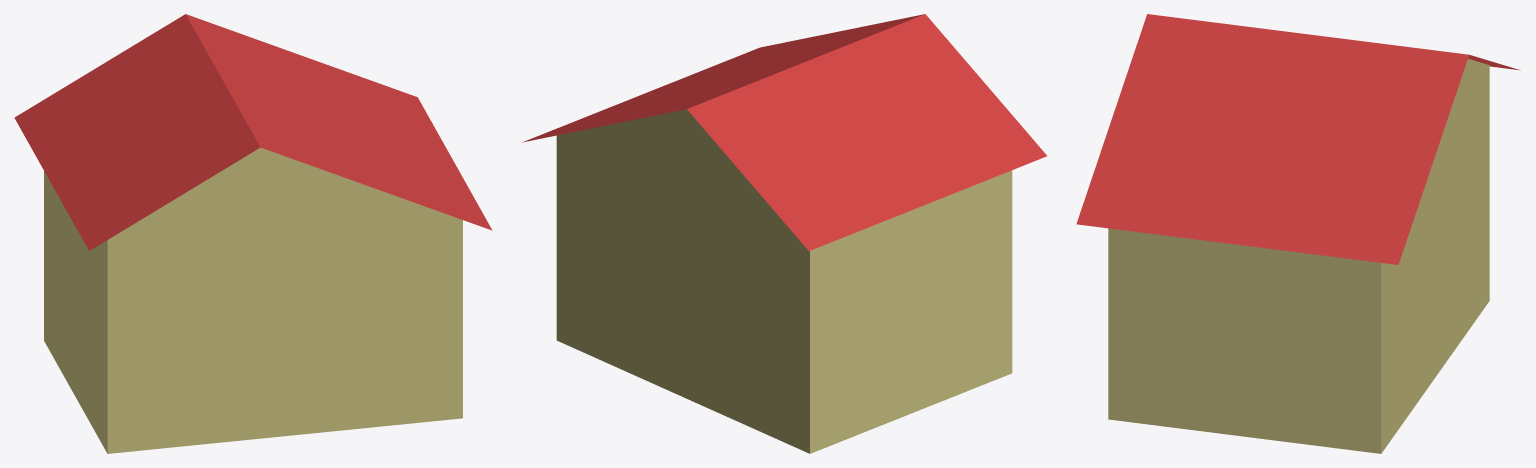
3 views of the same model, side by side, from view 1: azimuth 30°, elevation 25°; view 2: azimuth 150°, elevation 25°; view 3: azimuth 270°, elevation 25° (orthographic). The views are drawn at different scales.
Parts seen in each view (by area): view 1: group_5, group_3, group_4; view 2: group_5, group_3, group_4; view 3: group_5, group_3, group_4.
Boxes of the visible parts, x1,y1,x2,y2 form: group_5: (44,147,462,453); group_3: (14,14,462,250); group_4: (184,14,492,230); group_5: (556,109,1012,453); group_3: (558,14,1046,250); group_4: (522,14,924,142); group_5: (1108,58,1489,453); group_3: (1108,17,1468,252); group_4: (1076,14,1520,264).
Size of the model in its own units: 14.87 by 13.04 by 10.1.
